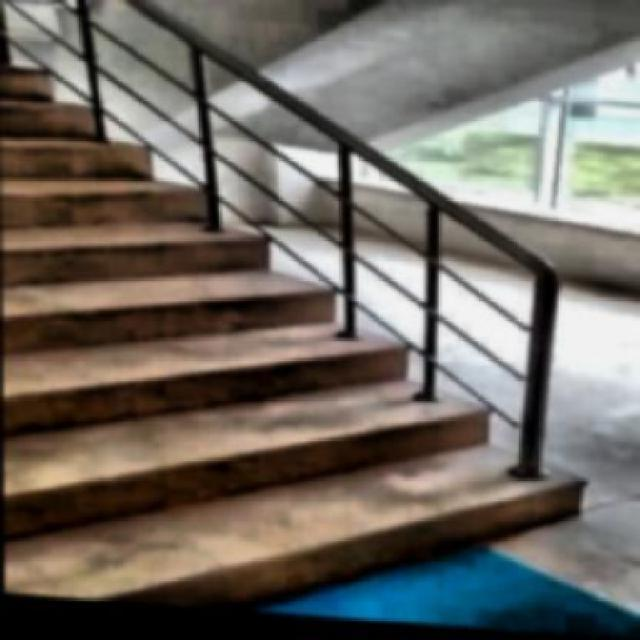stair: (3, 15, 600, 636)
